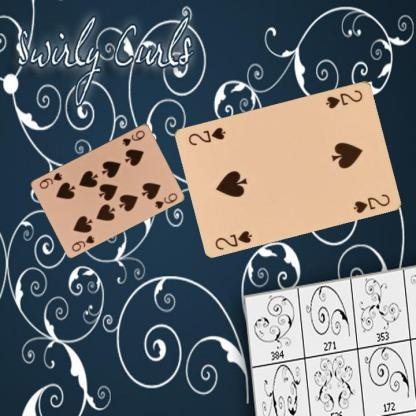2s: (212, 227, 254, 251), (324, 86, 364, 110)
9s: (69, 232, 96, 252), (120, 127, 146, 147)
